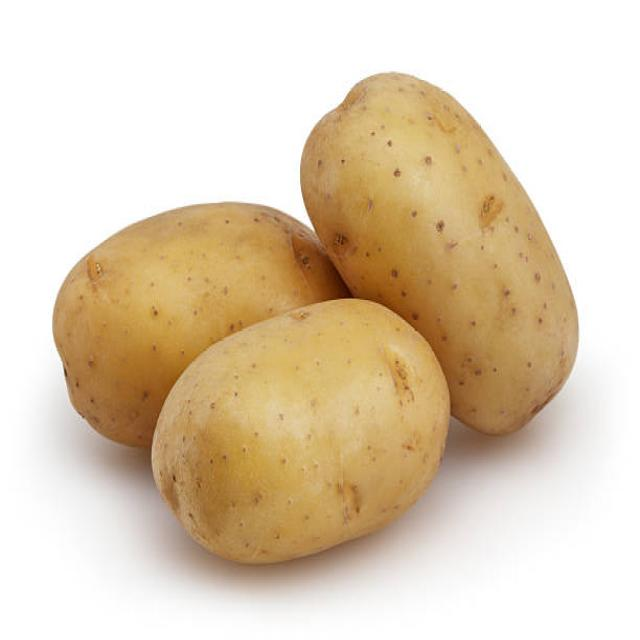Potato: (165, 304, 445, 569), (298, 64, 570, 304), (51, 209, 159, 459)
